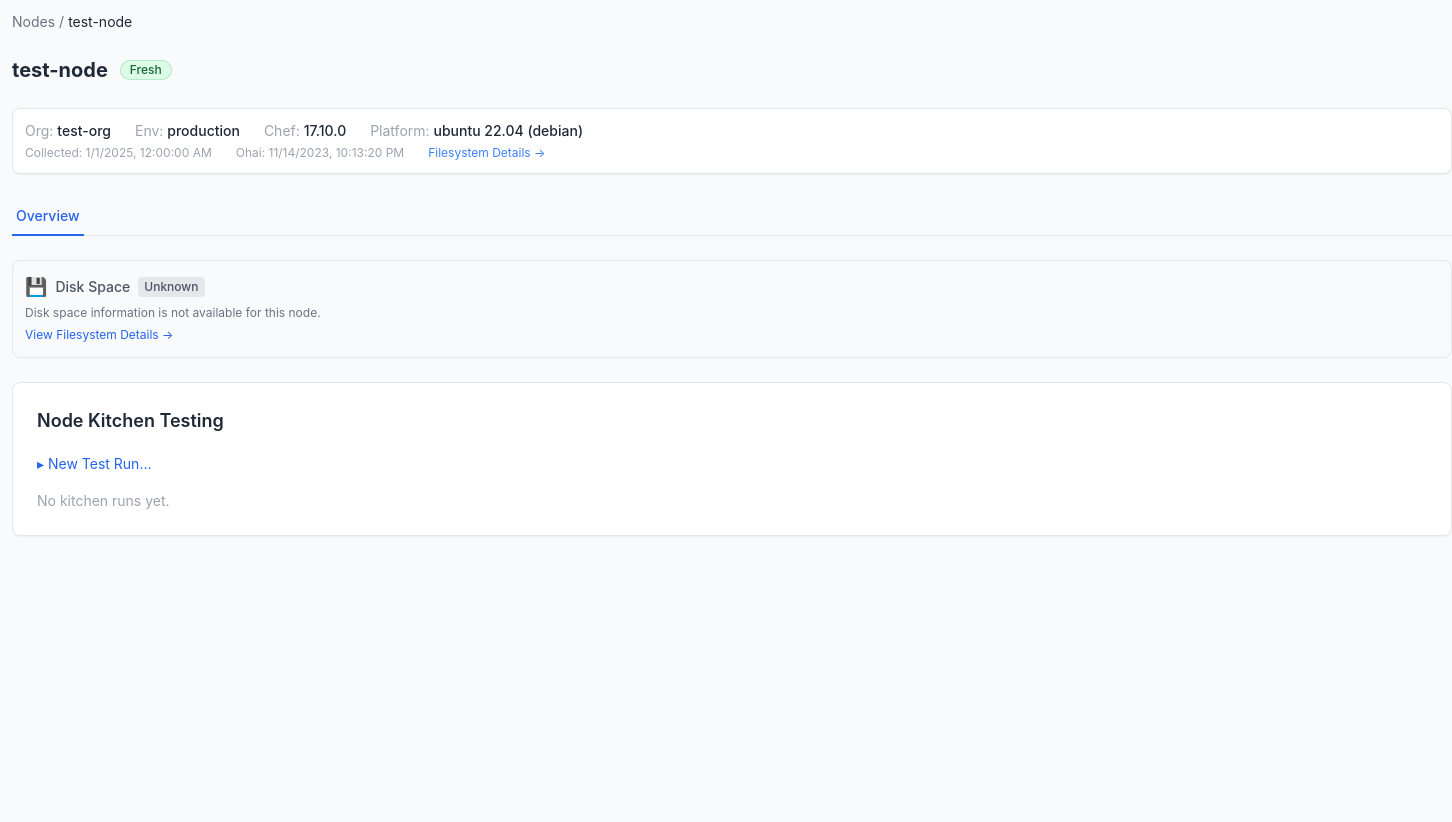
NodeKitchenSection › toggles 'New Test Run…' to show the form
The width and height of the screenshot is (1452, 822).
Expected: the text "Cookbook Source" is not shown
Click the button "▸ New Test Run…" at (94, 464), box [37,454,152,474]
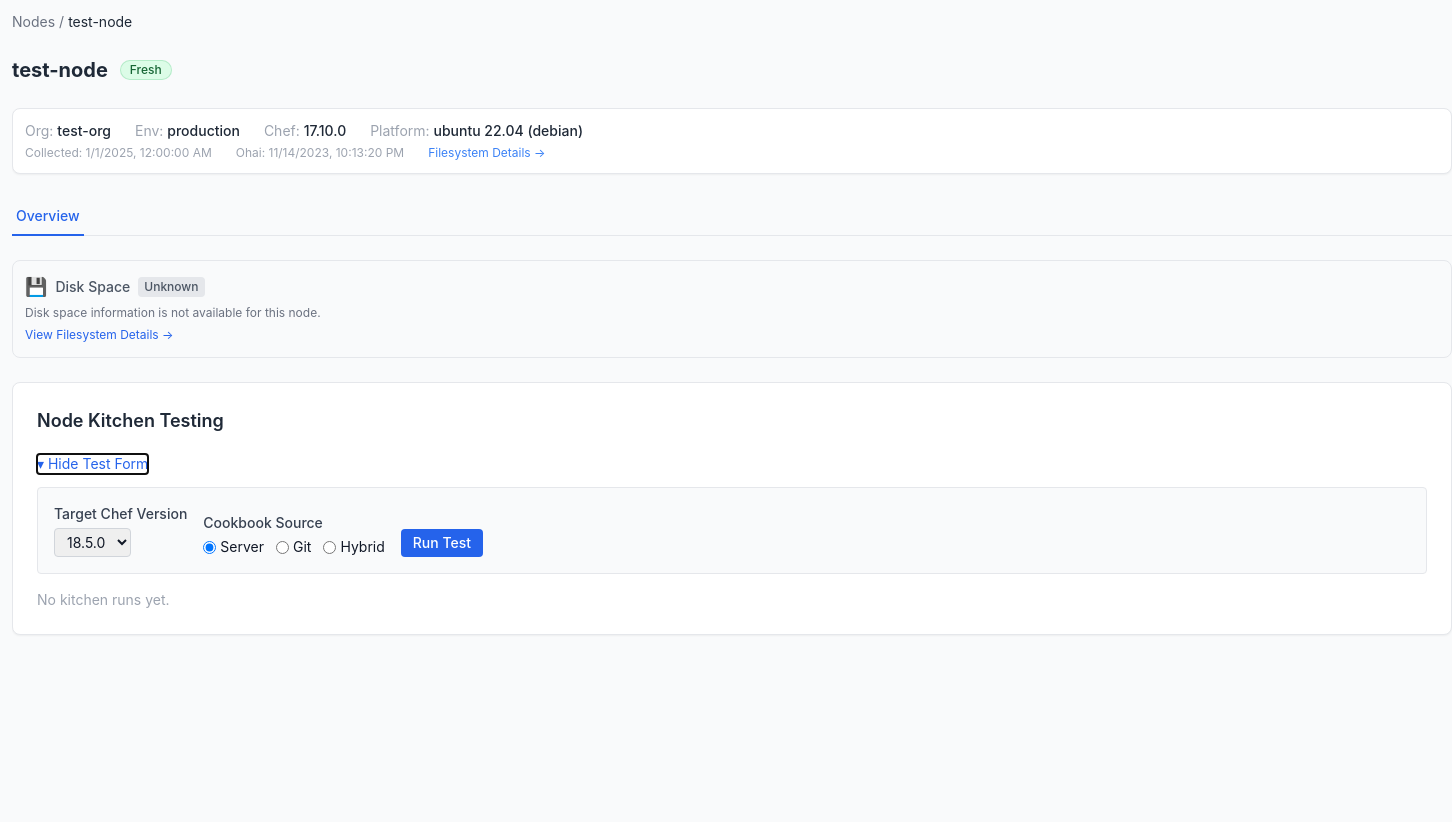
Now the text "Cookbook Source" is shown, box [203,513,323,533]
Now the text "Target Chef Version" is shown, box [54,504,187,524]
Now the button "Run Test" is shown, box [401,529,483,557]
